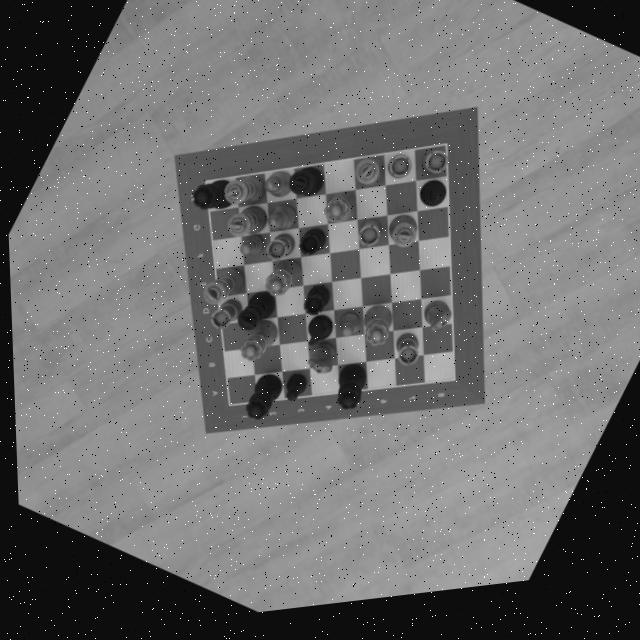chessboard: (205, 155, 452, 410)
